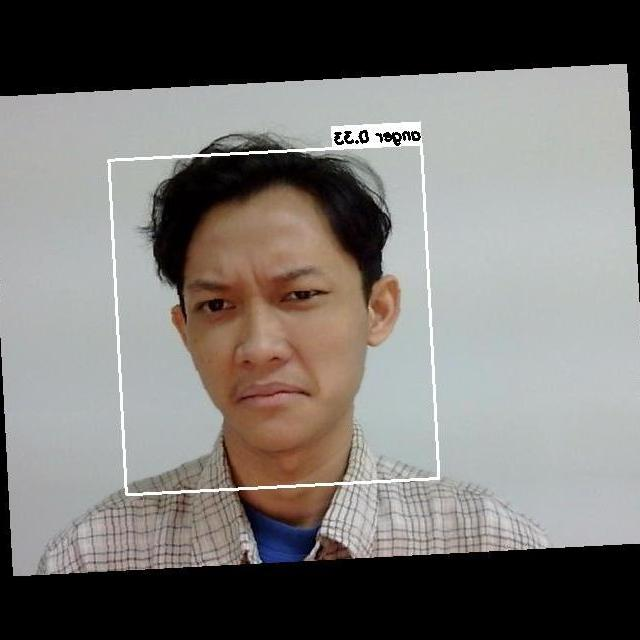Disgust: (164, 247, 374, 431)
